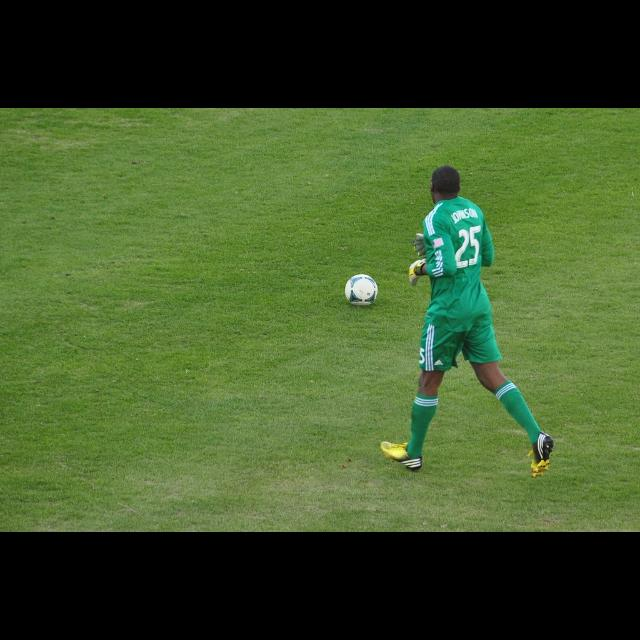Football: (341, 274, 379, 304)
